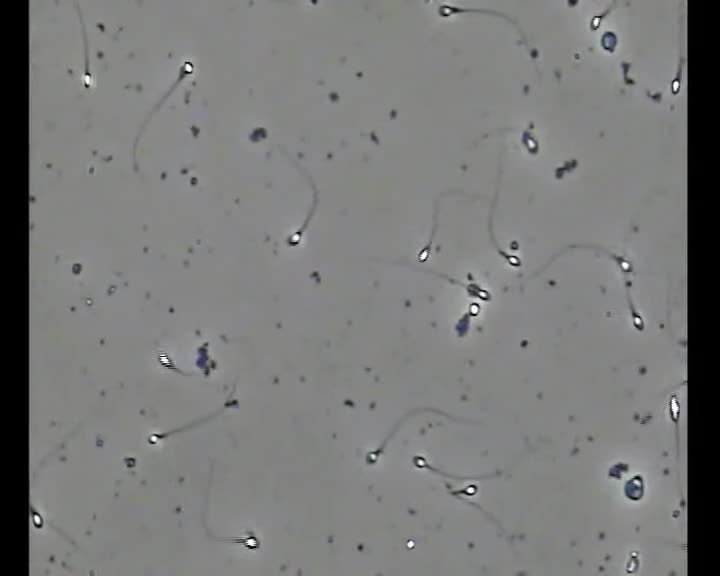spermhead: (624, 475, 643, 500), (466, 283, 489, 300), (522, 130, 538, 154), (455, 312, 470, 337), (608, 462, 628, 479), (437, 3, 461, 17), (601, 31, 617, 52), (248, 126, 267, 143), (625, 551, 639, 574), (157, 352, 175, 369), (668, 394, 679, 421), (615, 256, 632, 273), (243, 532, 259, 549), (503, 254, 521, 267), (670, 73, 681, 94), (31, 509, 43, 528), (632, 311, 644, 330), (287, 230, 302, 245), (365, 449, 380, 464), (180, 61, 193, 76), (417, 246, 429, 262), (461, 484, 477, 496), (590, 15, 602, 30), (147, 433, 163, 444), (82, 71, 92, 88), (413, 455, 426, 468), (123, 456, 136, 469), (468, 302, 480, 316), (528, 47, 538, 59), (224, 399, 238, 407), (405, 539, 415, 549), (509, 240, 518, 251), (671, 509, 680, 518), (85, 297, 93, 307), (624, 279, 632, 288), (309, 0, 317, 5), (681, 380, 687, 386)
